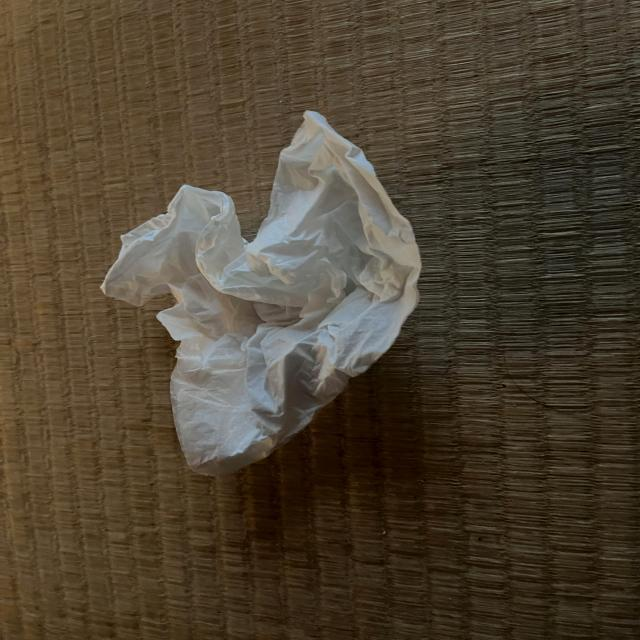Paper: (94, 110, 412, 480)
